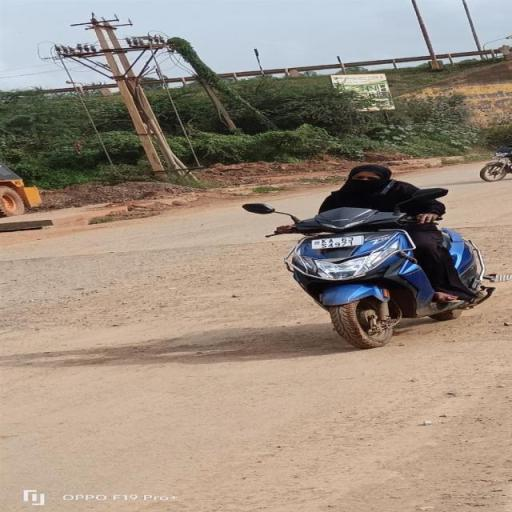using mobile: (380, 174, 402, 204)
